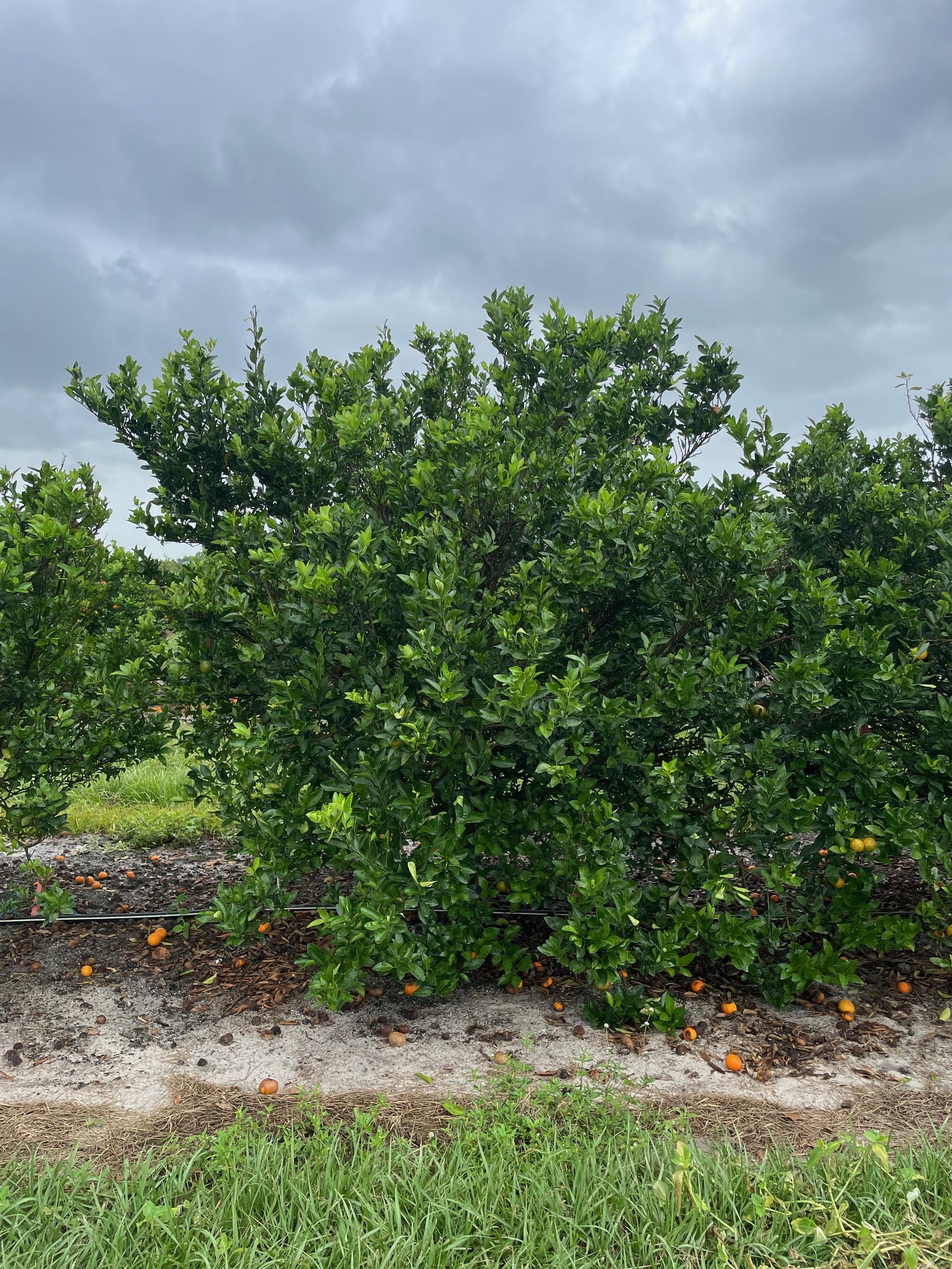fruit_on_ground: (593, 974, 612, 992), (749, 702, 767, 719), (861, 836, 878, 853), (849, 837, 865, 853), (913, 645, 928, 661), (198, 659, 213, 674), (832, 876, 846, 890), (495, 879, 509, 893)
fruit_on_tree: (258, 1077, 279, 1096), (724, 1052, 743, 1071), (680, 1024, 698, 1042), (388, 1031, 407, 1047), (838, 997, 856, 1013), (756, 1066, 773, 1082), (256, 919, 273, 935), (403, 981, 420, 997), (689, 977, 705, 993), (493, 1049, 510, 1064), (721, 1000, 738, 1015), (503, 982, 520, 996), (897, 979, 912, 994), (147, 932, 162, 947), (620, 1034, 635, 1048), (378, 1023, 393, 1037), (840, 1010, 856, 1023), (495, 879, 509, 893), (368, 984, 383, 997), (153, 926, 168, 939), (811, 990, 826, 1003), (540, 975, 554, 988), (572, 1025, 585, 1038), (80, 964, 93, 977), (794, 1035, 807, 1047), (396, 1023, 409, 1035), (617, 967, 629, 979), (30, 960, 42, 971), (818, 846, 830, 857), (113, 905, 125, 916), (553, 999, 565, 1010), (747, 907, 758, 918), (749, 891, 761, 901), (746, 862, 758, 872), (531, 959, 543, 969), (183, 960, 194, 970), (74, 874, 85, 884), (770, 891, 780, 902), (126, 869, 137, 879), (97, 869, 108, 879), (54, 853, 66, 862), (85, 875, 95, 885), (782, 832, 793, 841), (149, 854, 160, 863), (91, 882, 101, 890), (535, 966, 545, 973), (121, 903, 130, 910)
